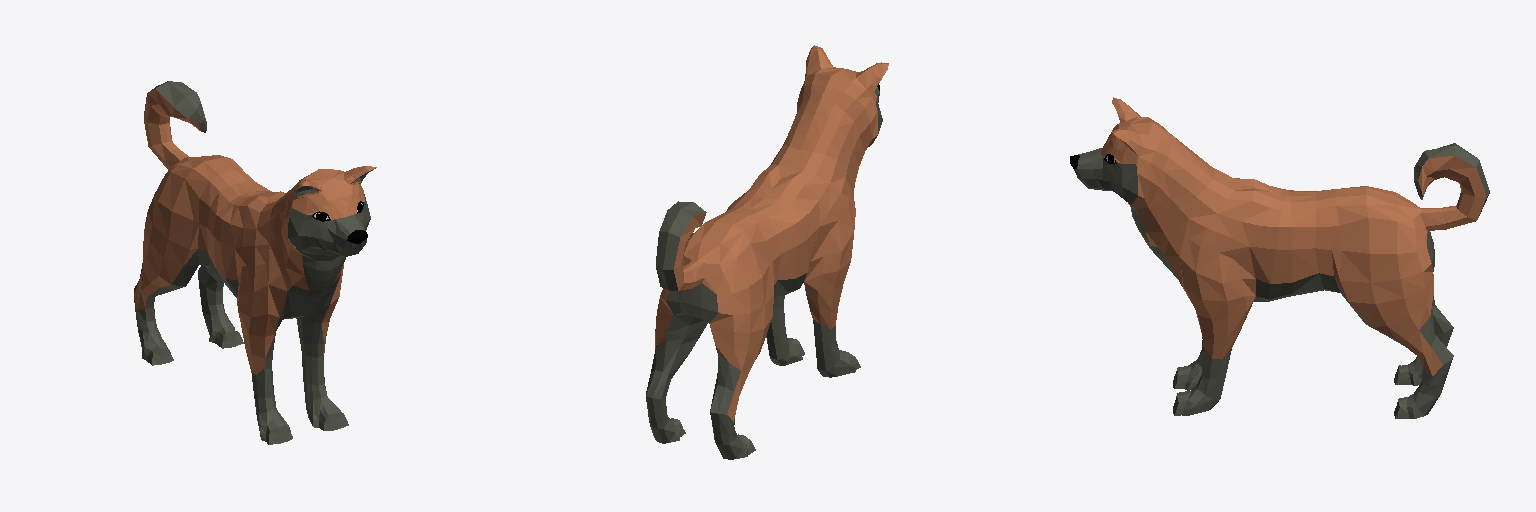
3 views of the same model, side by side, from view 1: azimuth 30°, elevation 25°; view 2: azimuth 150°, elevation 25°; view 3: azimuth 270°, elevation 25° (orthographic).
Visible parts, largest first — view 1: ShibaInu; view 2: ShibaInu; view 3: ShibaInu.
Part boxes in pixels (bbox=[...]): ShibaInu: bbox=[134, 81, 376, 444]; ShibaInu: bbox=[646, 45, 888, 459]; ShibaInu: bbox=[1070, 97, 1489, 418].
Size of the model in its own units: 1.07 by 3.09 by 4.16.
Materials: 6 (1 with a texture image).